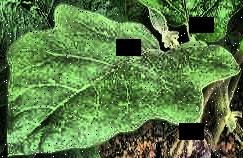HEALTHY: (1, 1, 243, 158)
